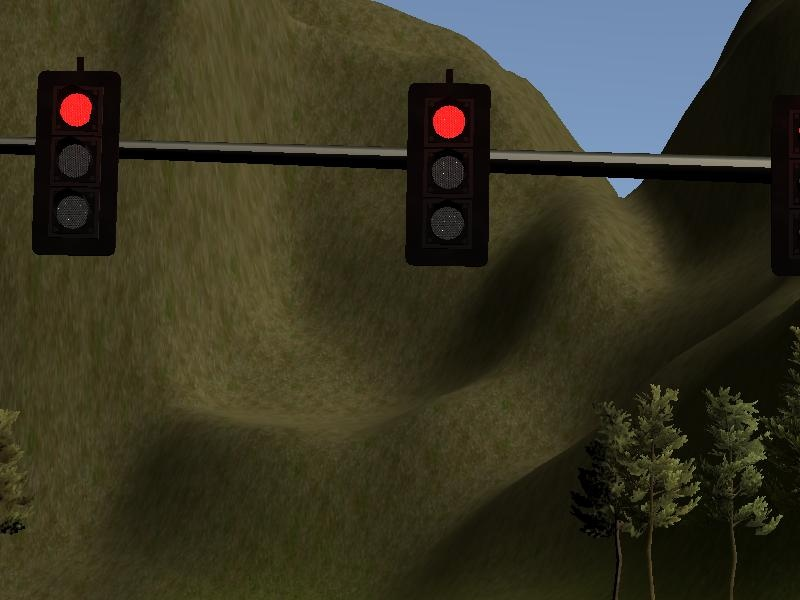RED: (406, 83, 488, 264), (34, 72, 116, 253)
